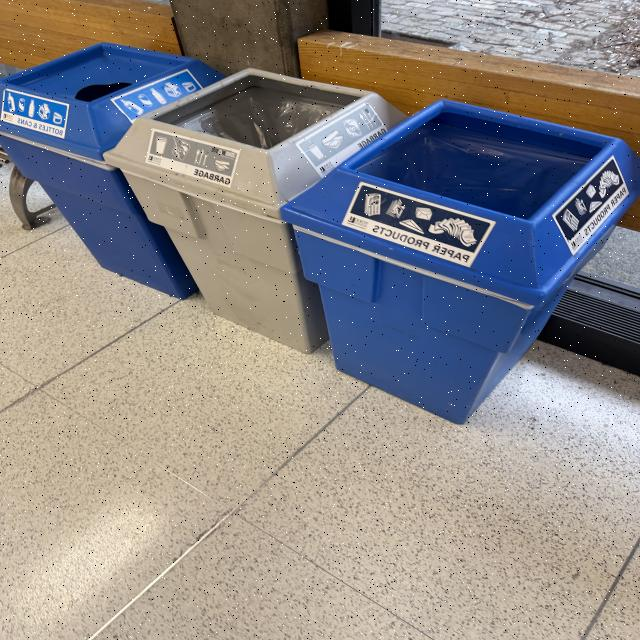Dustbin: (0, 40, 635, 428)
